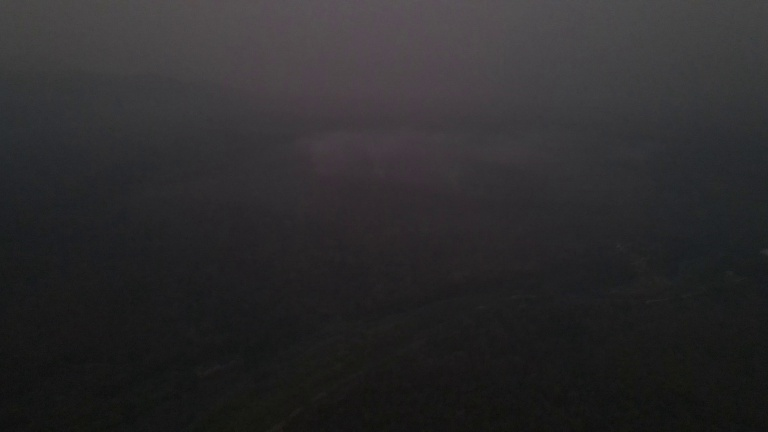smoke: (296, 130, 492, 187)
